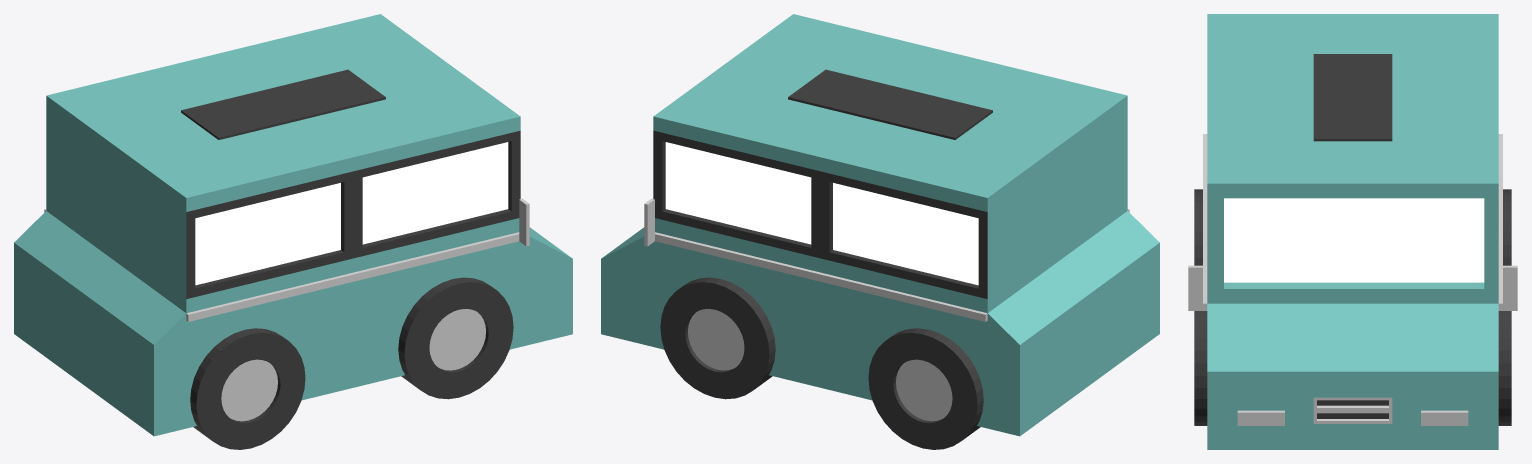
The model's file is Car 2.2.fbx.
The picture shows the model from 3 angles, left to right: view 1: azimuth 30°, elevation 25°; view 2: azimuth 150°, elevation 25°; view 3: azimuth 270°, elevation 25°; orthographic projection. The views are drawn at different scales.
Visible parts, largest first — view 1: Car_1.002; view 2: Car_1.002; view 3: Car_1.002.
Part boxes in pixels (left/top/right/bottom): Car_1.002: left=14, top=14, right=572, bottom=449; Car_1.002: left=601, top=14, right=1159, bottom=449; Car_1.002: left=1188, top=14, right=1517, bottom=449.
Bounding box in the file's own units: 384 × 228 × 249.
